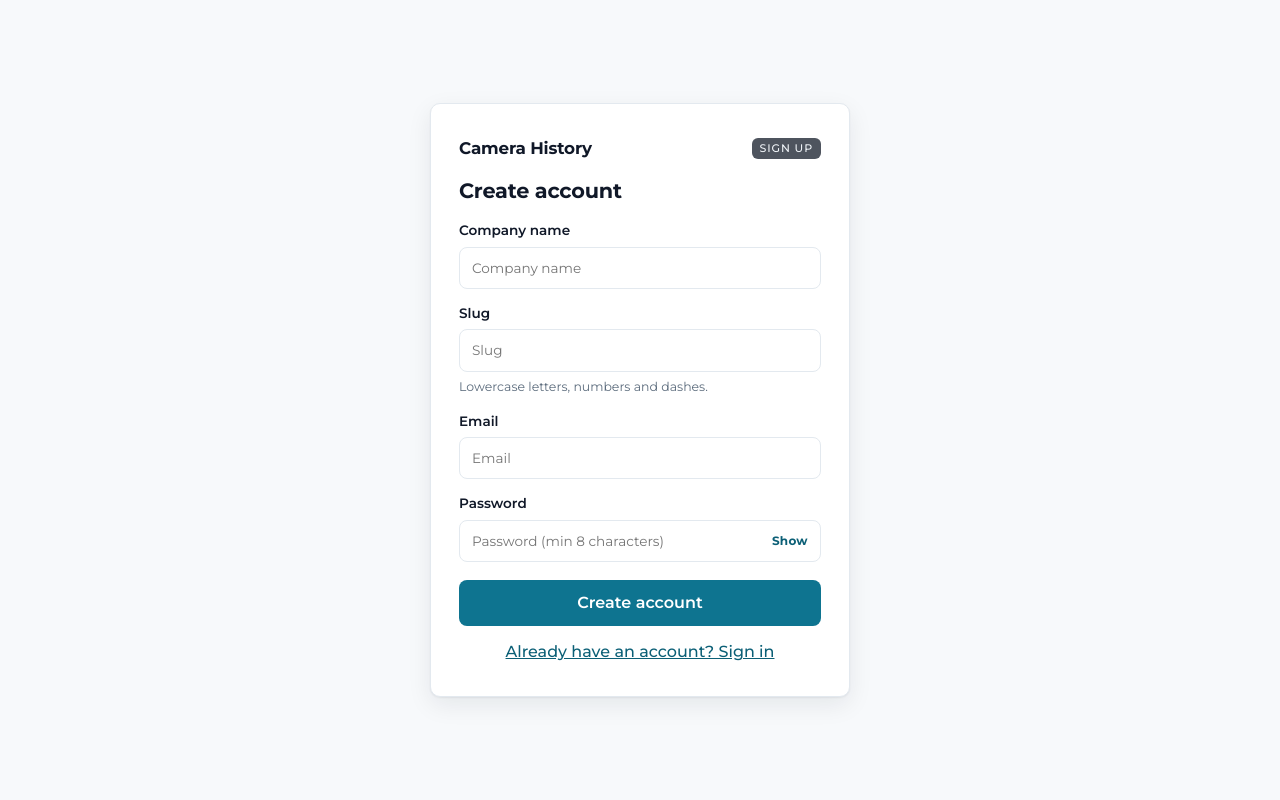
Scenario: App registration › registers and lands on the empty camera list
This screenshot has width=1280, height=800.
Expected: the form with test id "register-form" is shown, [430, 103, 850, 697]
Type "Alpine Resort" into the field with test id "register-name".
click(640, 268); type("Alpine Resort")  # box [459, 247, 821, 289]
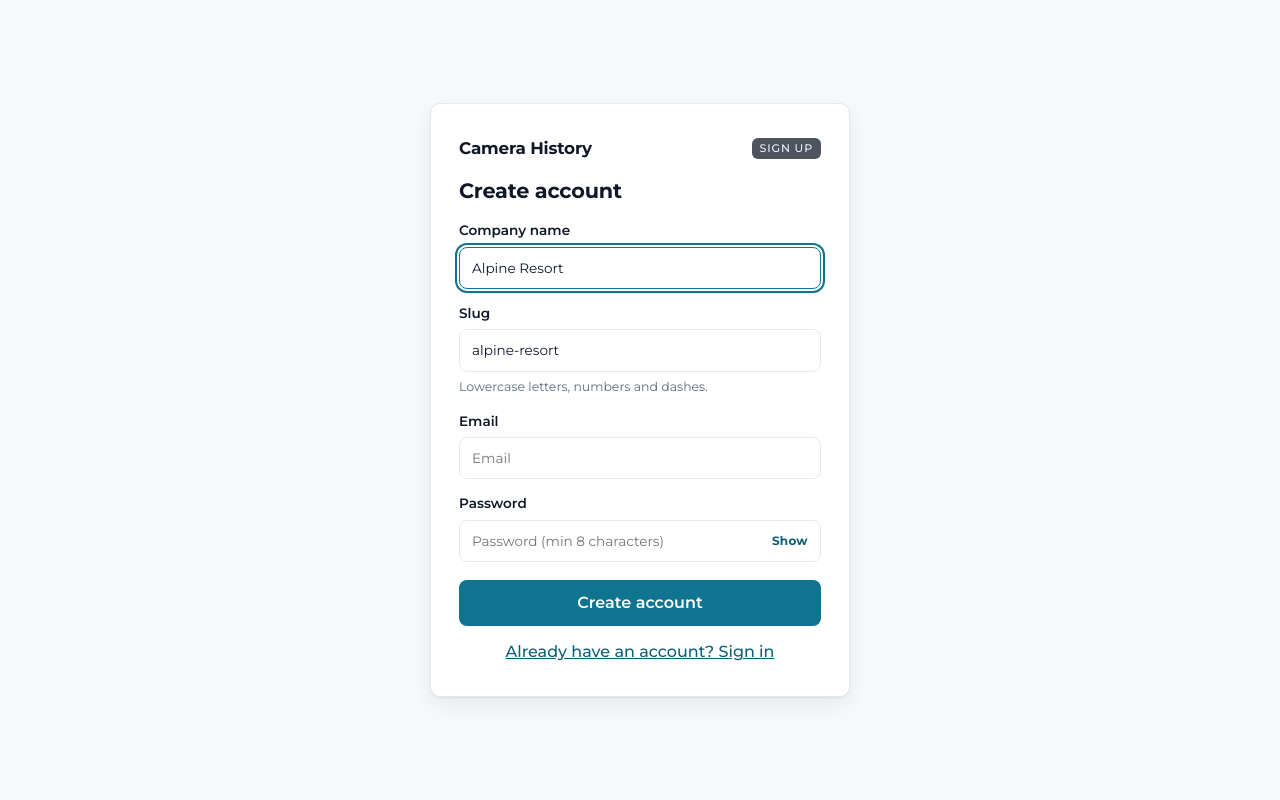
Type "owner@alpine.dev" into the field with test id "register-email".
click(640, 458); type("owner@alpine.dev")  # box [459, 437, 821, 479]
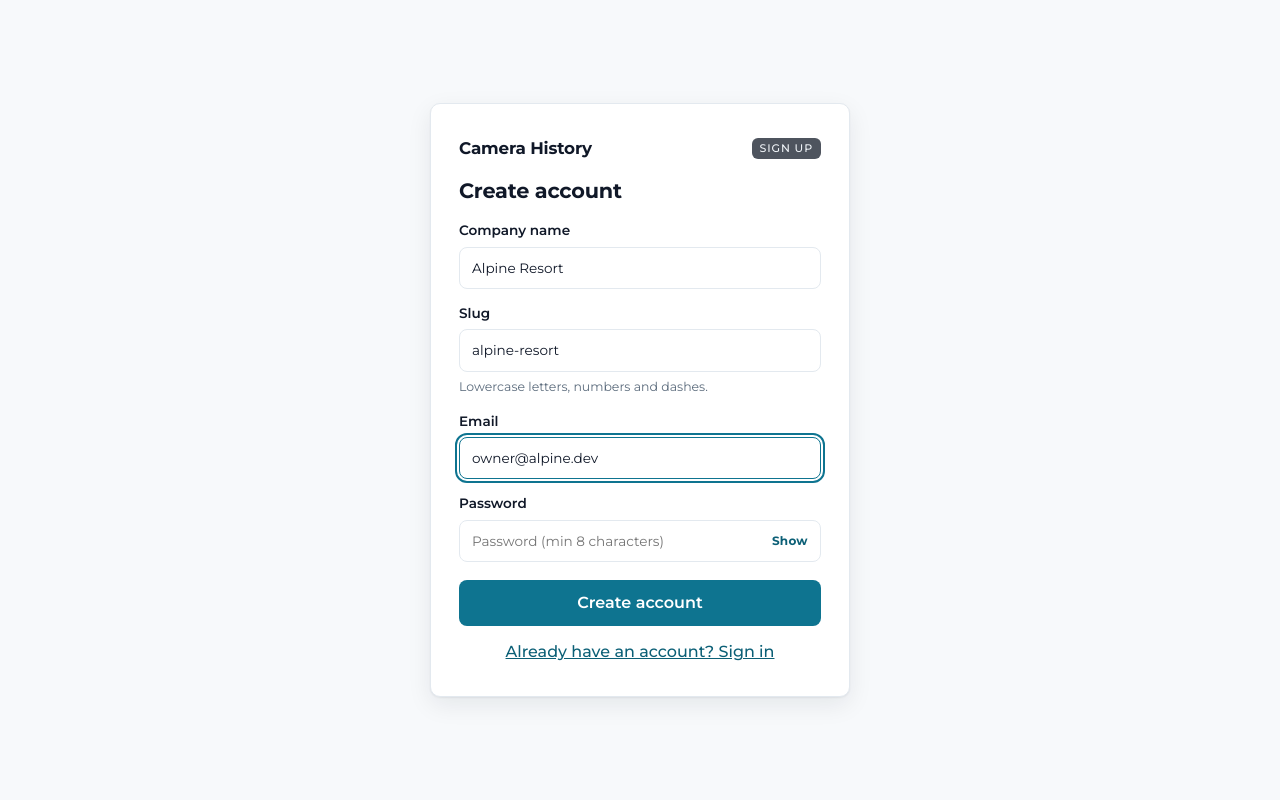
Type "supersecret" into the password field with test id "register-password".
click(640, 541); type("supersecret")  # box [459, 520, 821, 562]
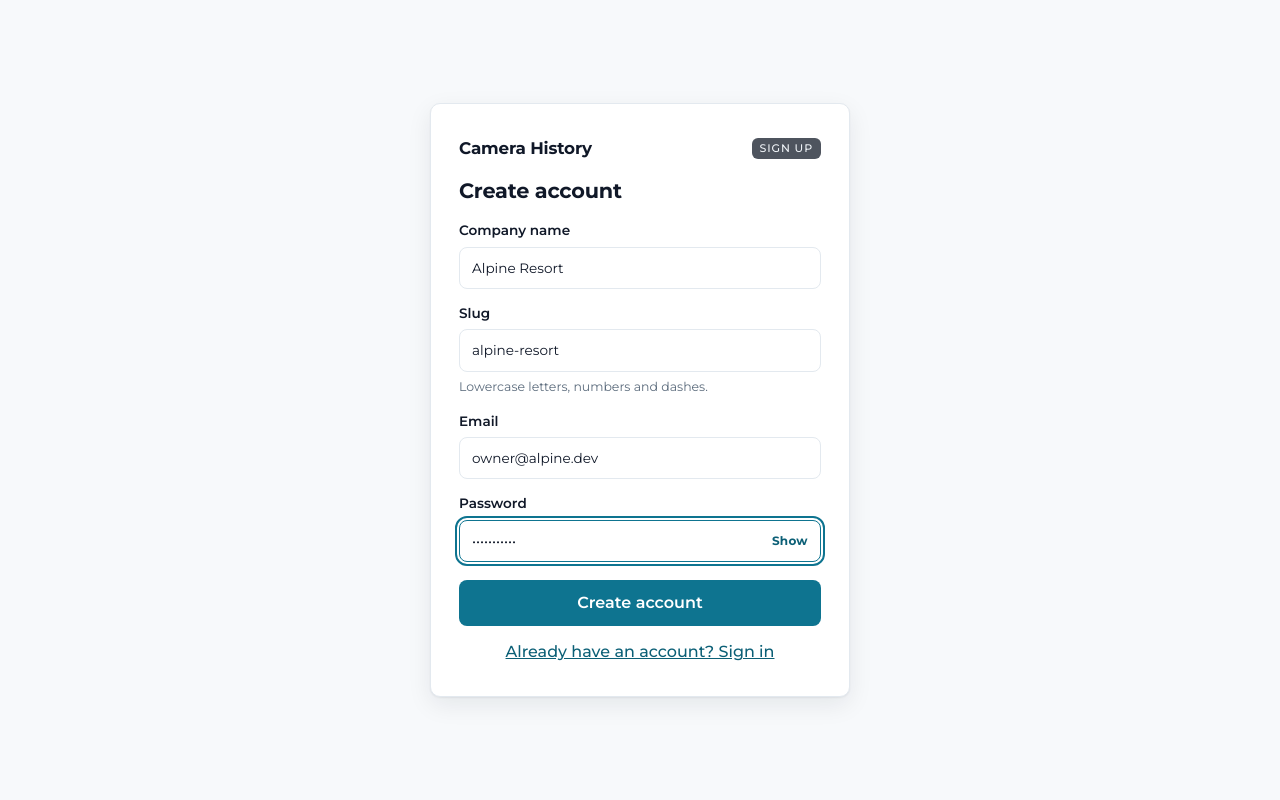
Expected: the field with test id "register-slug" holds "alpine-resort", [459, 329, 821, 372]
Click the button with test id "register-submit".
click(640, 603)  # box [459, 580, 821, 626]
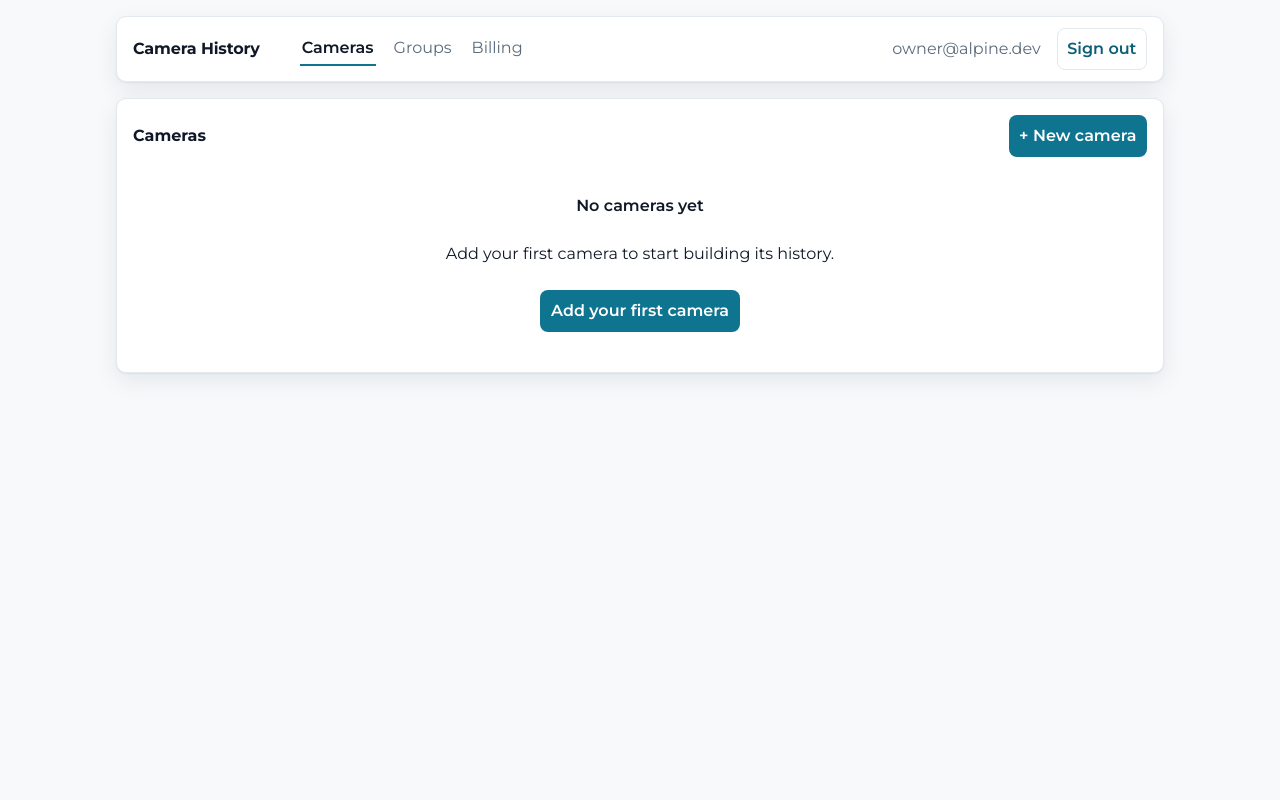
Expected: the element with test id "empty-state" is shown, [446, 196, 834, 332]
